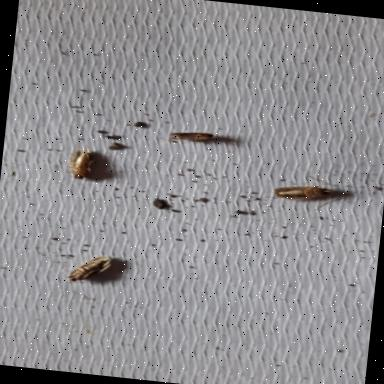pbw: (66, 251, 116, 287), (274, 181, 334, 204), (67, 146, 95, 180), (166, 128, 218, 146)
